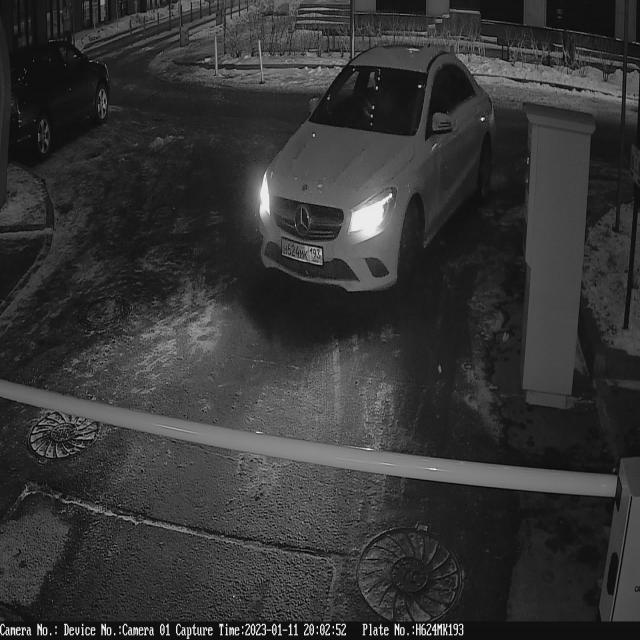car-plate-numbers: (278, 233, 326, 272)
